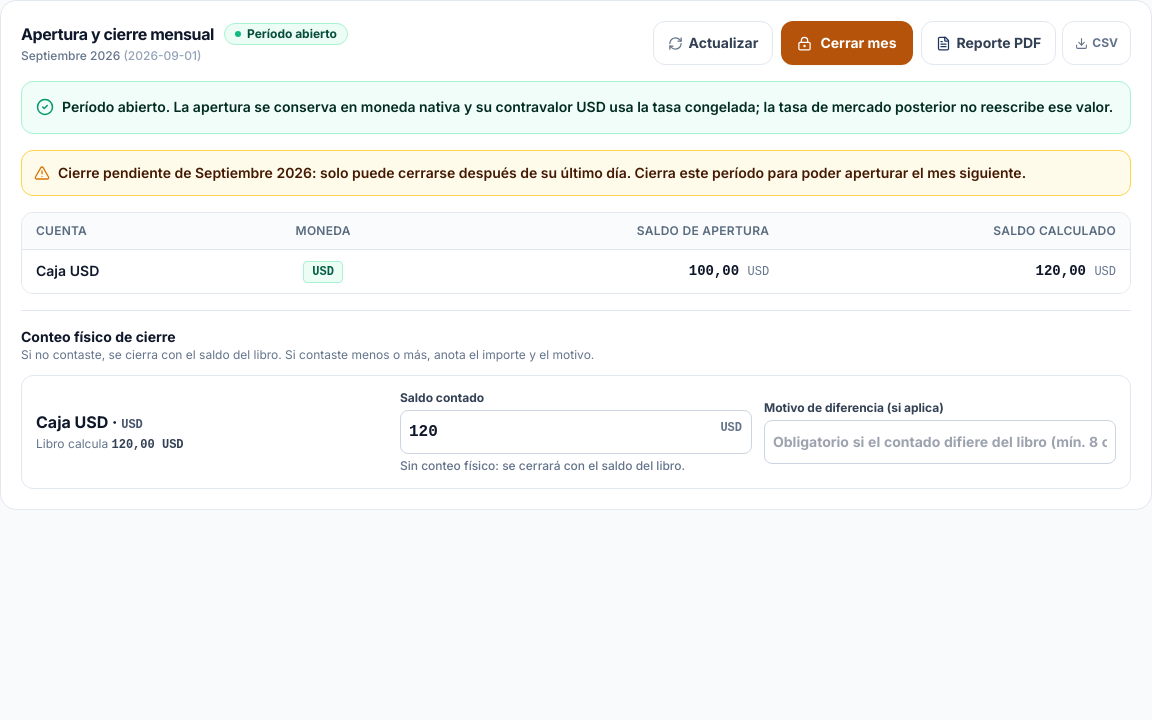
Test: PeriodoMensualFinanzas — cierre con diferencias › el conteo vacío en el cierre no se convierte en cero
Clear the field labelled "Saldo contado" at (576, 432), box left=400, top=410, right=752, bottom=454
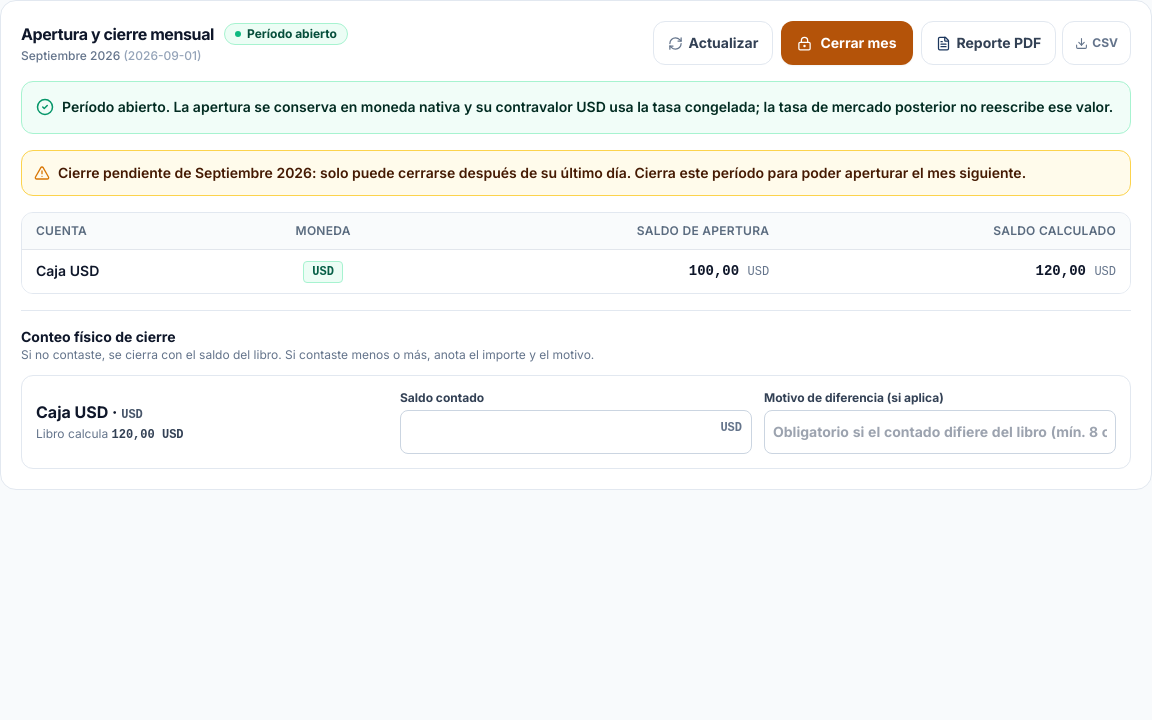
Click the button "Cerrar mes" at (847, 43), box left=781, top=21, right=912, bottom=65
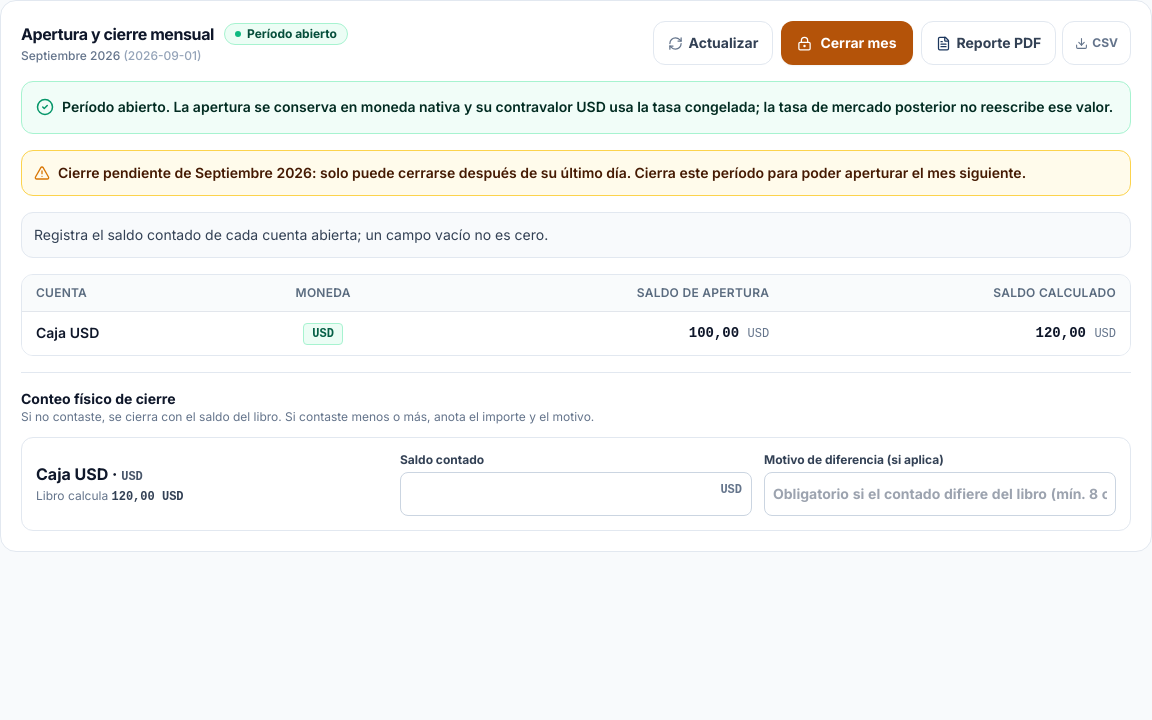
Expected: the message shows "un campo vacío no es cero", left=34, top=226, right=548, bottom=243
